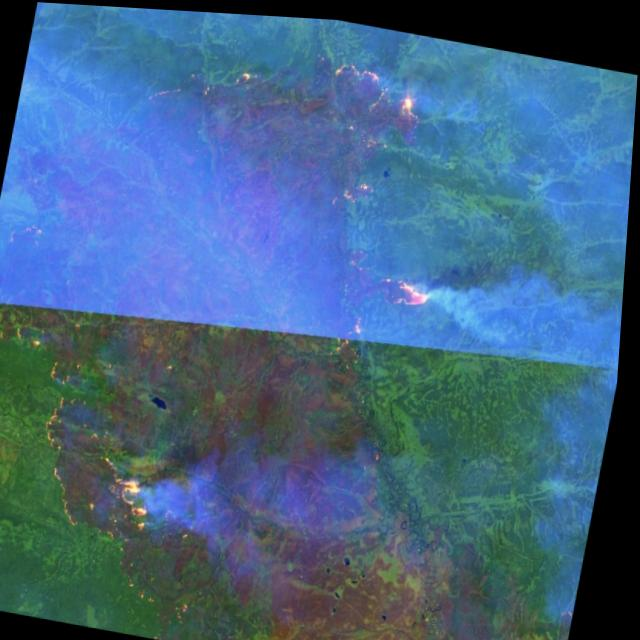fire: (24, 353, 189, 556), (306, 44, 433, 218), (330, 240, 450, 350), (142, 42, 263, 126)
